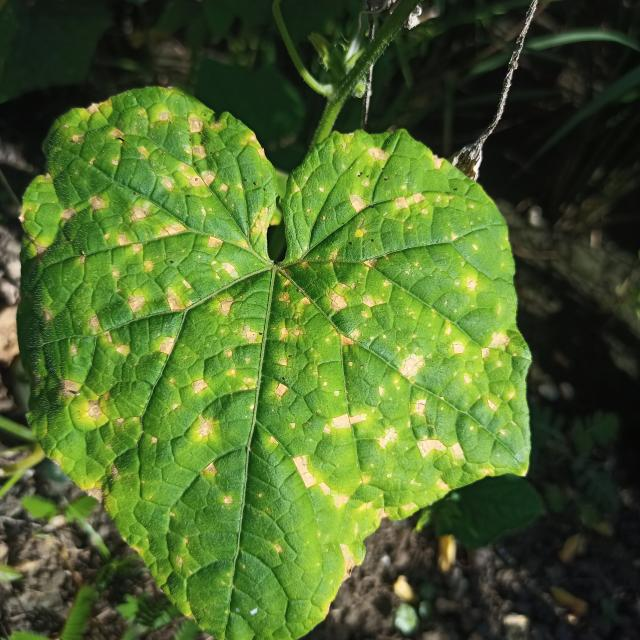disease_cucumber: (16, 93, 516, 593)
